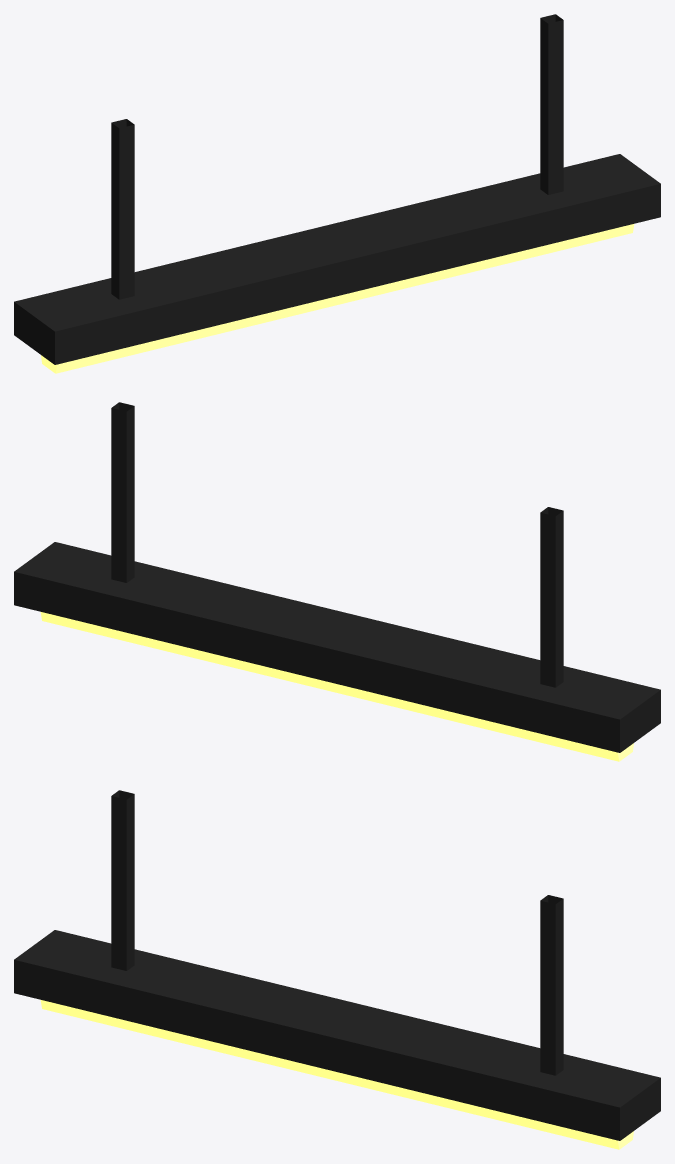
File: lamp_4.glb
3 views of the same model, one above another, from view 1: azimuth 30°, elevation 25°; view 2: azimuth 150°, elevation 25°; view 3: azimuth 330°, elevation 25° (orthographic).
Parts seen in each view (by area): view 1: Wall Light 4; view 2: Wall Light 4; view 3: Wall Light 4.
Boxes of the visible parts, x1,y1,x2,y2 form: Wall Light 4: (14, 14, 660, 373); Wall Light 4: (14, 402, 660, 761); Wall Light 4: (14, 790, 660, 1149).
Size of the model in its own units: 0.9891 by 0.3543 by 0.1157.
Materials: 2 (1 with a texture image).
